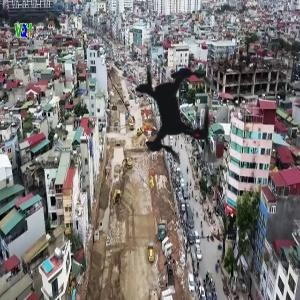drone: (94, 27, 267, 200)
